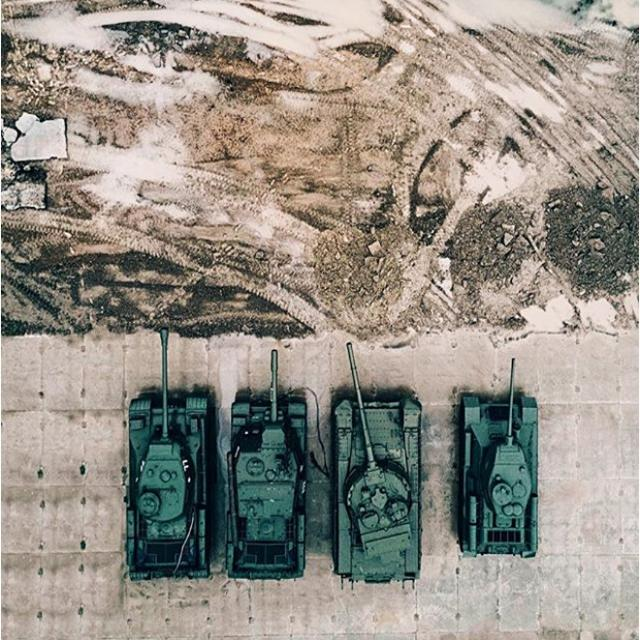tank: (328, 334, 426, 596), (120, 324, 216, 590), (226, 337, 317, 587), (453, 352, 544, 567)
